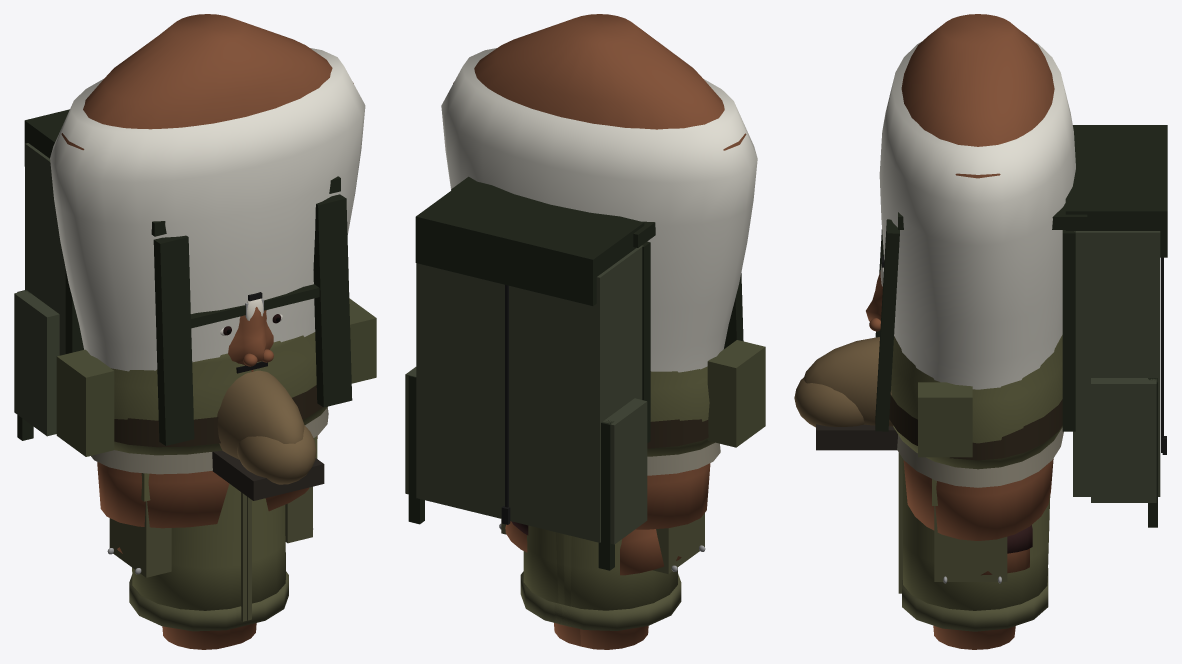
The model's file is male_belizean_web.glb.
The picture shows the model from 3 angles, left to right: view 1: azimuth 30°, elevation 25°; view 2: azimuth 150°, elevation 25°; view 3: azimuth 270°, elevation 25°; orthographic projection.
Visible parts, largest first — view 1: merged_tank_top, merged_skin, merged_shorts_olive, merged_backpack_strap, merged_backpack_olive, merged_shorts_pocket, merged_boot_leather, merged_pouch, merged_belt_leather, merged_tank_dirt, merged_boot_sole; view 2: merged_backpack_olive, merged_tank_top, merged_skin, merged_backpack_strap, merged_shorts_olive, merged_pouch, merged_shorts_pocket, merged_belt_leather, merged_tank_dirt, merged_metal_dark; view 3: merged_tank_top, merged_skin, merged_backpack_olive, merged_backpack_strap, merged_shorts_olive, merged_shorts_pocket, merged_boot_leather, merged_pouch, merged_tank_dirt, merged_belt_leather, merged_boot_sole, merged_metal_dark.
Part boxes in pixels (x1,y1,x2,y2): merged_tank_top: [50, 48, 365, 371]; merged_skin: [61, 14, 353, 649]; merged_shorts_olive: [111, 332, 327, 610]; merged_backpack_strap: [17, 109, 352, 445]; merged_backpack_olive: [14, 143, 65, 436]; merged_shorts_pocket: [109, 486, 312, 631]; merged_boot_leather: [217, 370, 316, 484]; merged_pouch: [56, 298, 376, 456]; merged_belt_leather: [114, 385, 322, 447]; merged_tank_dirt: [91, 407, 328, 474]; merged_boot_sole: [212, 450, 324, 500]; merged_backpack_olive: [405, 245, 647, 544]; merged_tank_top: [441, 48, 757, 372]; merged_skin: [453, 14, 746, 649]; merged_backpack_strap: [408, 176, 743, 570]; merged_shorts_olive: [523, 366, 714, 626]; merged_pouch: [707, 340, 765, 447]; merged_shorts_pocket: [501, 513, 704, 630]; merged_belt_leather: [647, 419, 708, 448]; merged_tank_dirt: [647, 442, 720, 475]; merged_metal_dark: [501, 285, 510, 524]; merged_tank_top: [879, 42, 1075, 389]; merged_skin: [866, 14, 1054, 649]; merged_backpack_olive: [1073, 231, 1160, 502]; merged_backpack_strap: [875, 125, 1167, 527]; merged_shorts_olive: [891, 335, 1062, 610]; merged_shorts_pocket: [898, 452, 1048, 631]; merged_boot_leather: [794, 337, 893, 427]; merged_pouch: [918, 382, 972, 457]; merged_tank_dirt: [897, 427, 1063, 487]; merged_belt_leather: [889, 395, 1062, 460]; merged_boot_sole: [816, 424, 897, 450]; merged_metal_dark: [882, 256, 1166, 454].
Bounding box in the file's own units: 0.4765 × 0.9116 × 0.512.
